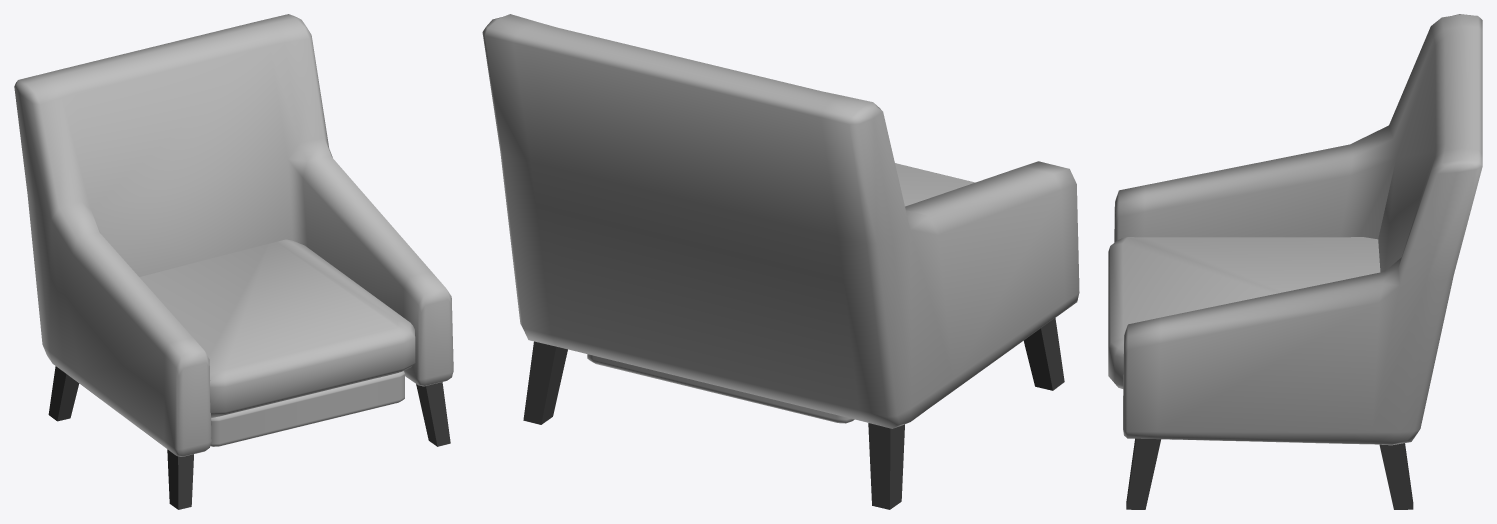
The model's file is Sofa_01_Single.fbx.
The picture shows the model from 3 angles, left to right: view 1: azimuth 30°, elevation 25°; view 2: azimuth 150°, elevation 25°; view 3: azimuth 270°, elevation 25°; orthographic projection. The views are drawn at different scales.
Visible parts, largest first — view 1: Sofa_01_Single; view 2: Sofa_01_Single; view 3: Sofa_01_Single.
Part boxes in pixels (box(x1,y1,x2,y2)): Sofa_01_Single: box(14, 14, 453, 509); Sofa_01_Single: box(482, 14, 1079, 509); Sofa_01_Single: box(1108, 14, 1482, 509).
Bounding box in the file's own units: 0.8441 × 0.8985 × 0.8753.
